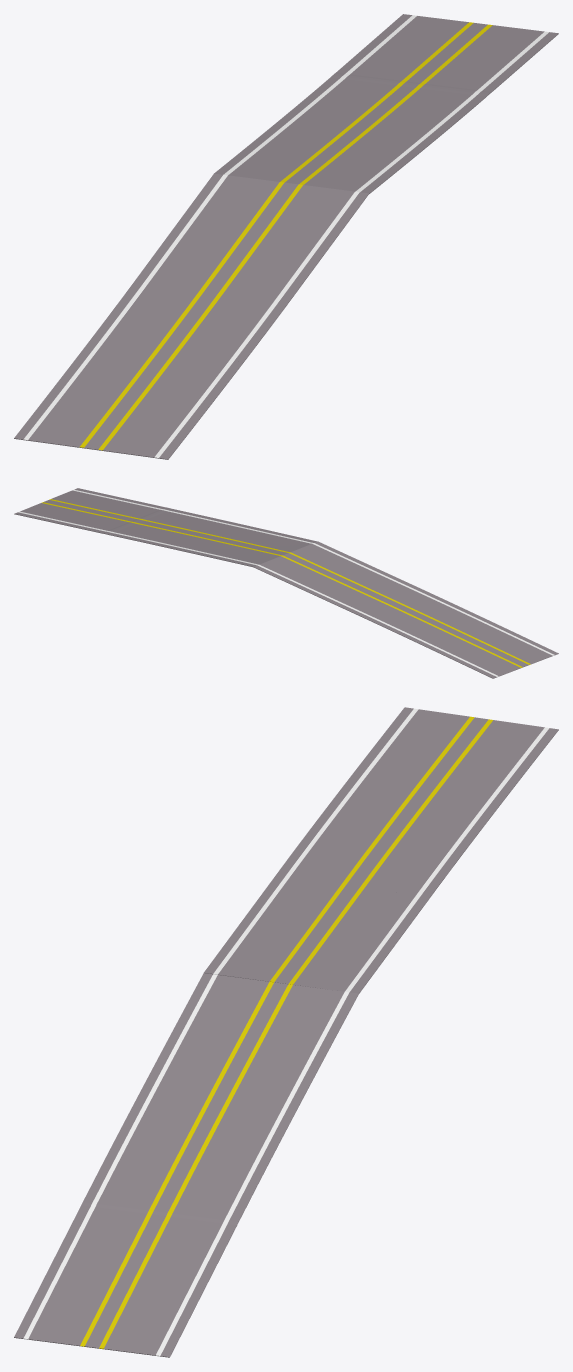
Rendered from Road Bridge Straight 10 BASE blend.fbx.
3 views of the same model, one above another, from view 1: azimuth 90°, elevation 25°; view 2: azimuth 150°, elevation 25°; view 3: azimuth 270°, elevation 25° (orthographic). The views are drawn at different scales.
Parts seen in each view (by area): view 1: Cube.002, Cube.001; view 2: Cube.002, Cube.001; view 3: Cube.001, Cube.002.
Boxes of the visible parts, left/top/right/bottom form: Cube.002: left=14, top=173, right=368, bottom=459; Cube.001: left=214, top=14, right=558, bottom=193; Cube.002: left=253, top=541, right=558, bottom=678; Cube.001: left=14, top=488, right=317, bottom=566; Cube.001: left=14, top=973, right=358, bottom=1357; Cube.002: left=204, top=707, right=558, bottom=993.
Size of the model in its own units: 35.02 by 168 by 399.
